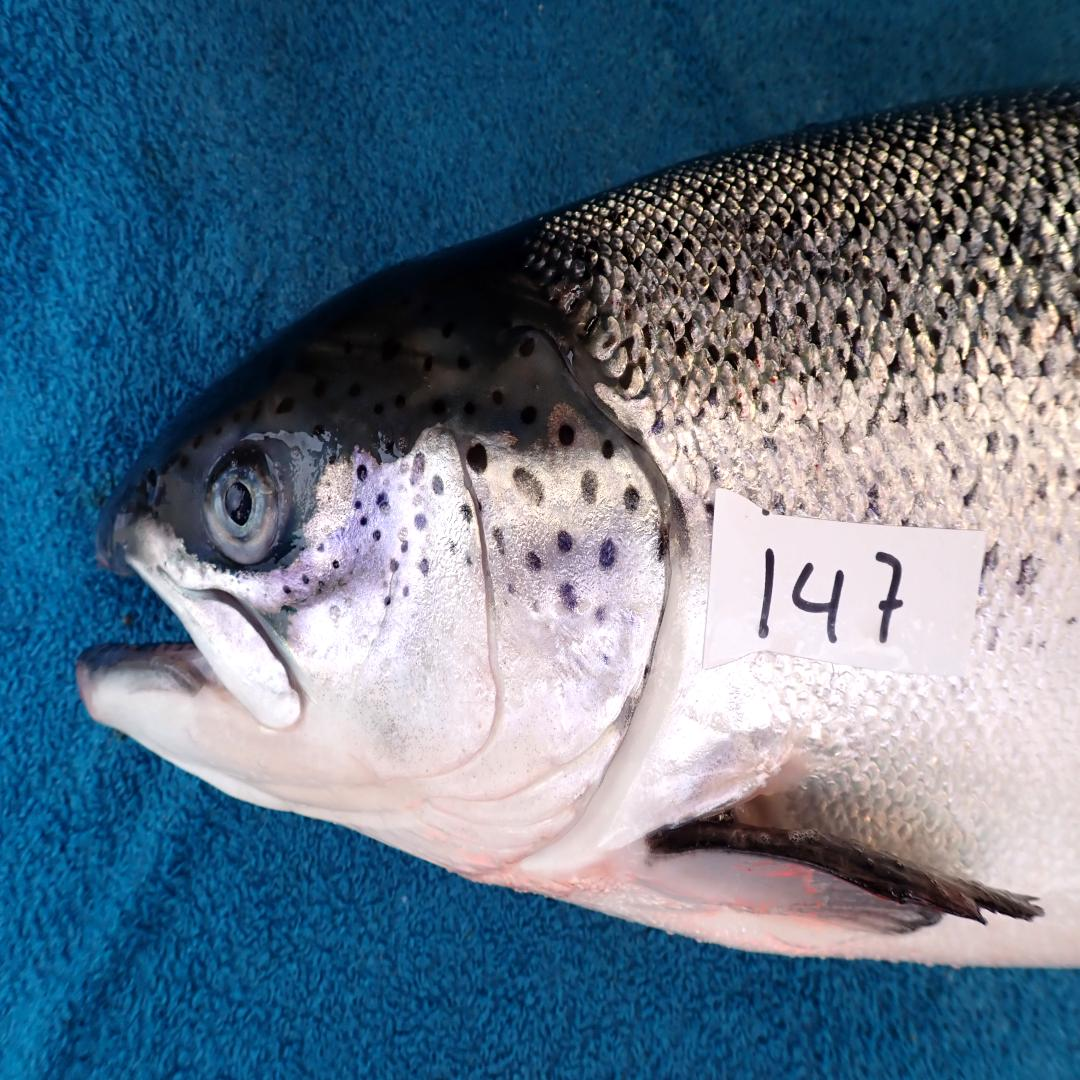roi: (292, 405, 672, 880)
